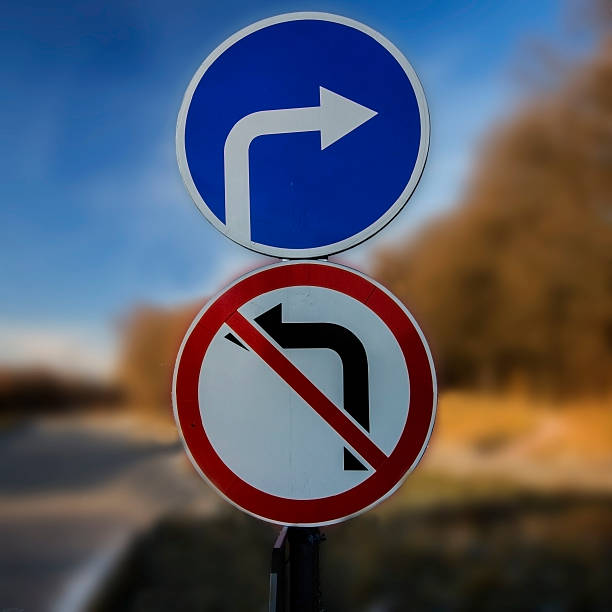ileri_veya_saga: (180, 4, 447, 256)
sola_girilmez: (177, 257, 440, 536)
